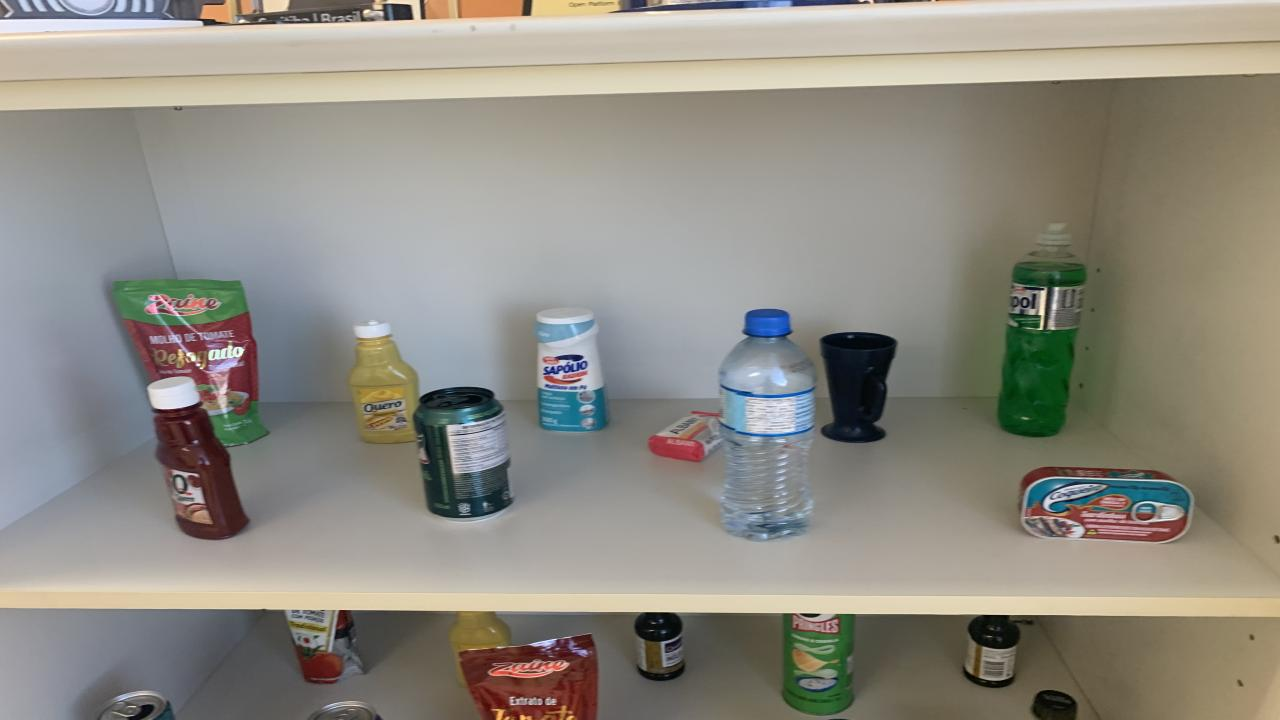Cleaner-Cleanup_Items: (535, 308, 608, 431)
Detergent-Cleanup_Items: (998, 223, 1088, 437)
English_Sauce-Pantry_Items: (965, 615, 1020, 688), (635, 613, 685, 681)
Guarana_Can-Drinks: (415, 386, 512, 521)
Ketchup-Pantry_Items: (148, 377, 250, 540)
Mustard-Pantry_Items: (348, 321, 418, 442), (450, 611, 510, 686)
Pringles-Snacks: (782, 613, 855, 714)
Soap-Cleanup_Items: (648, 411, 722, 461)
Soda-Drinks: (1032, 690, 1078, 720)
Tea-Drinks: (98, 690, 175, 720)
Tomato_Sauce-Pantry_Items: (115, 279, 268, 446), (458, 634, 598, 720), (285, 609, 365, 684)
Tonic-Drinks: (308, 701, 380, 720)
Tuna_Can-Pantry_Items: (1020, 467, 1192, 544)
Water_Bottle-Drinks: (718, 309, 815, 542)
